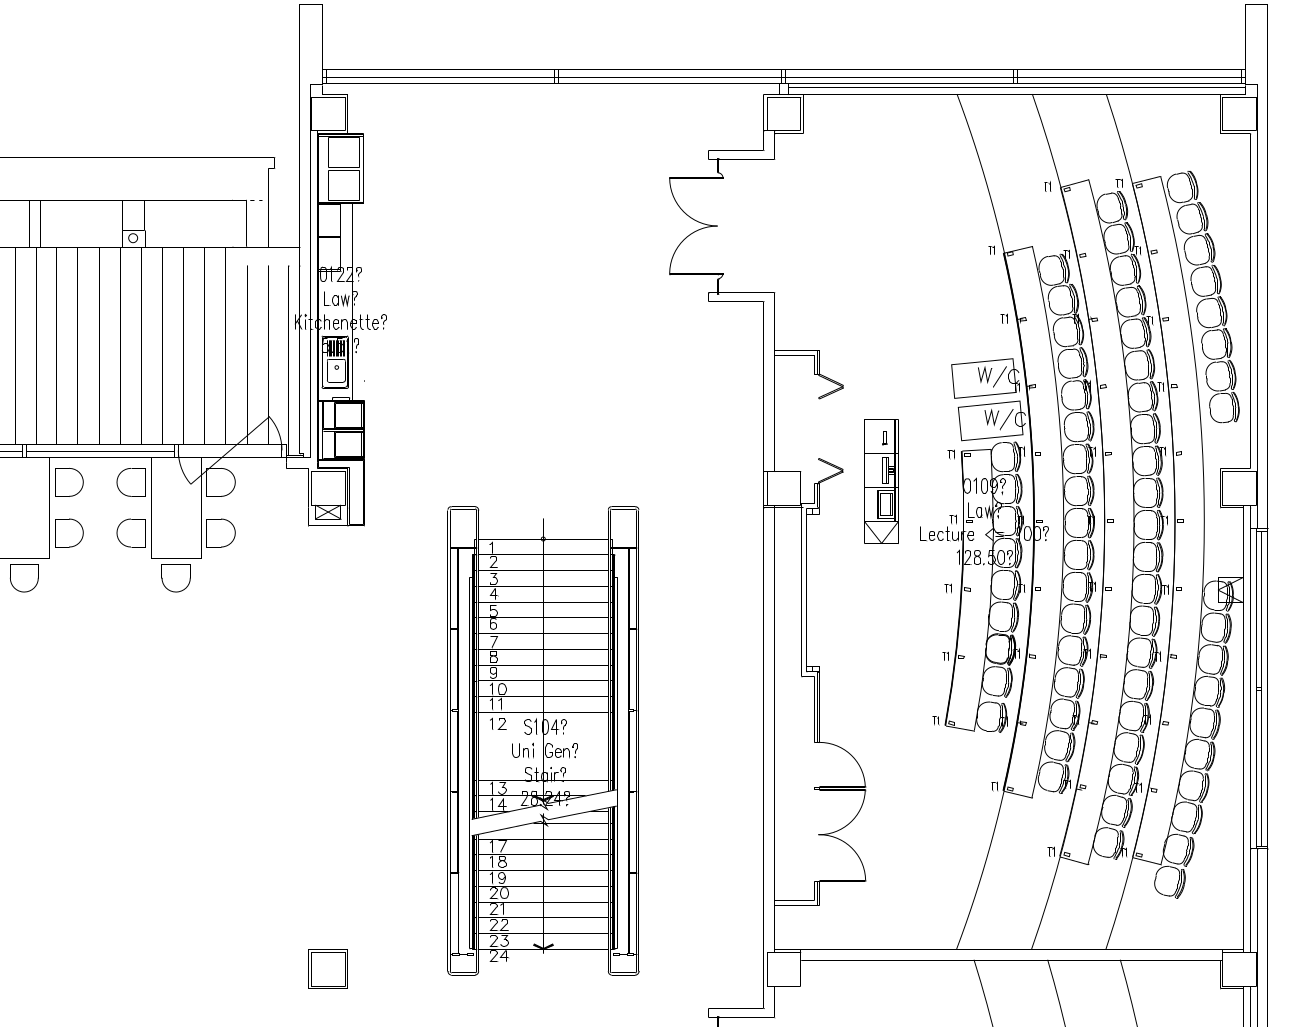door: (661, 224, 721, 278), (662, 173, 722, 226), (811, 788, 866, 836), (813, 837, 868, 885), (812, 739, 867, 787)
